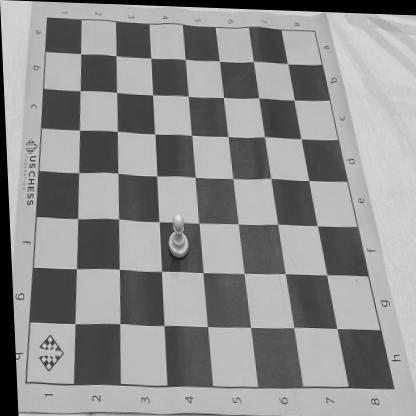white-pawn: (164, 210, 188, 258)
